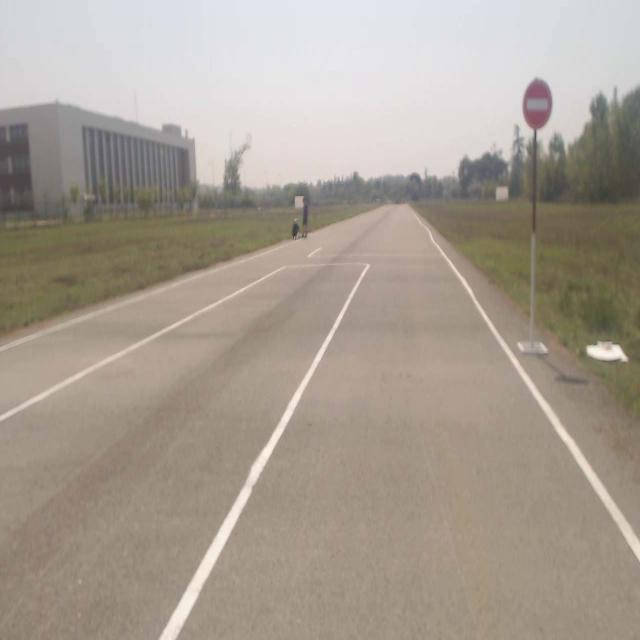girisyok: (523, 78, 551, 132)
